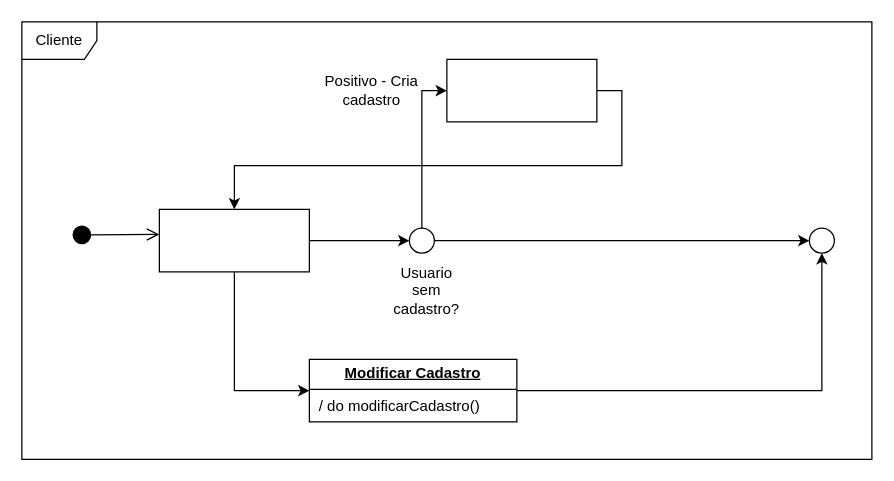
Some shapes in this 894 by 481 pixel diagram are drawn without their labels. Each missing label, with the centre of its shape:
Cadastrar / do cadastrar(): point 521,90
Login / do logar(): point 233,240
